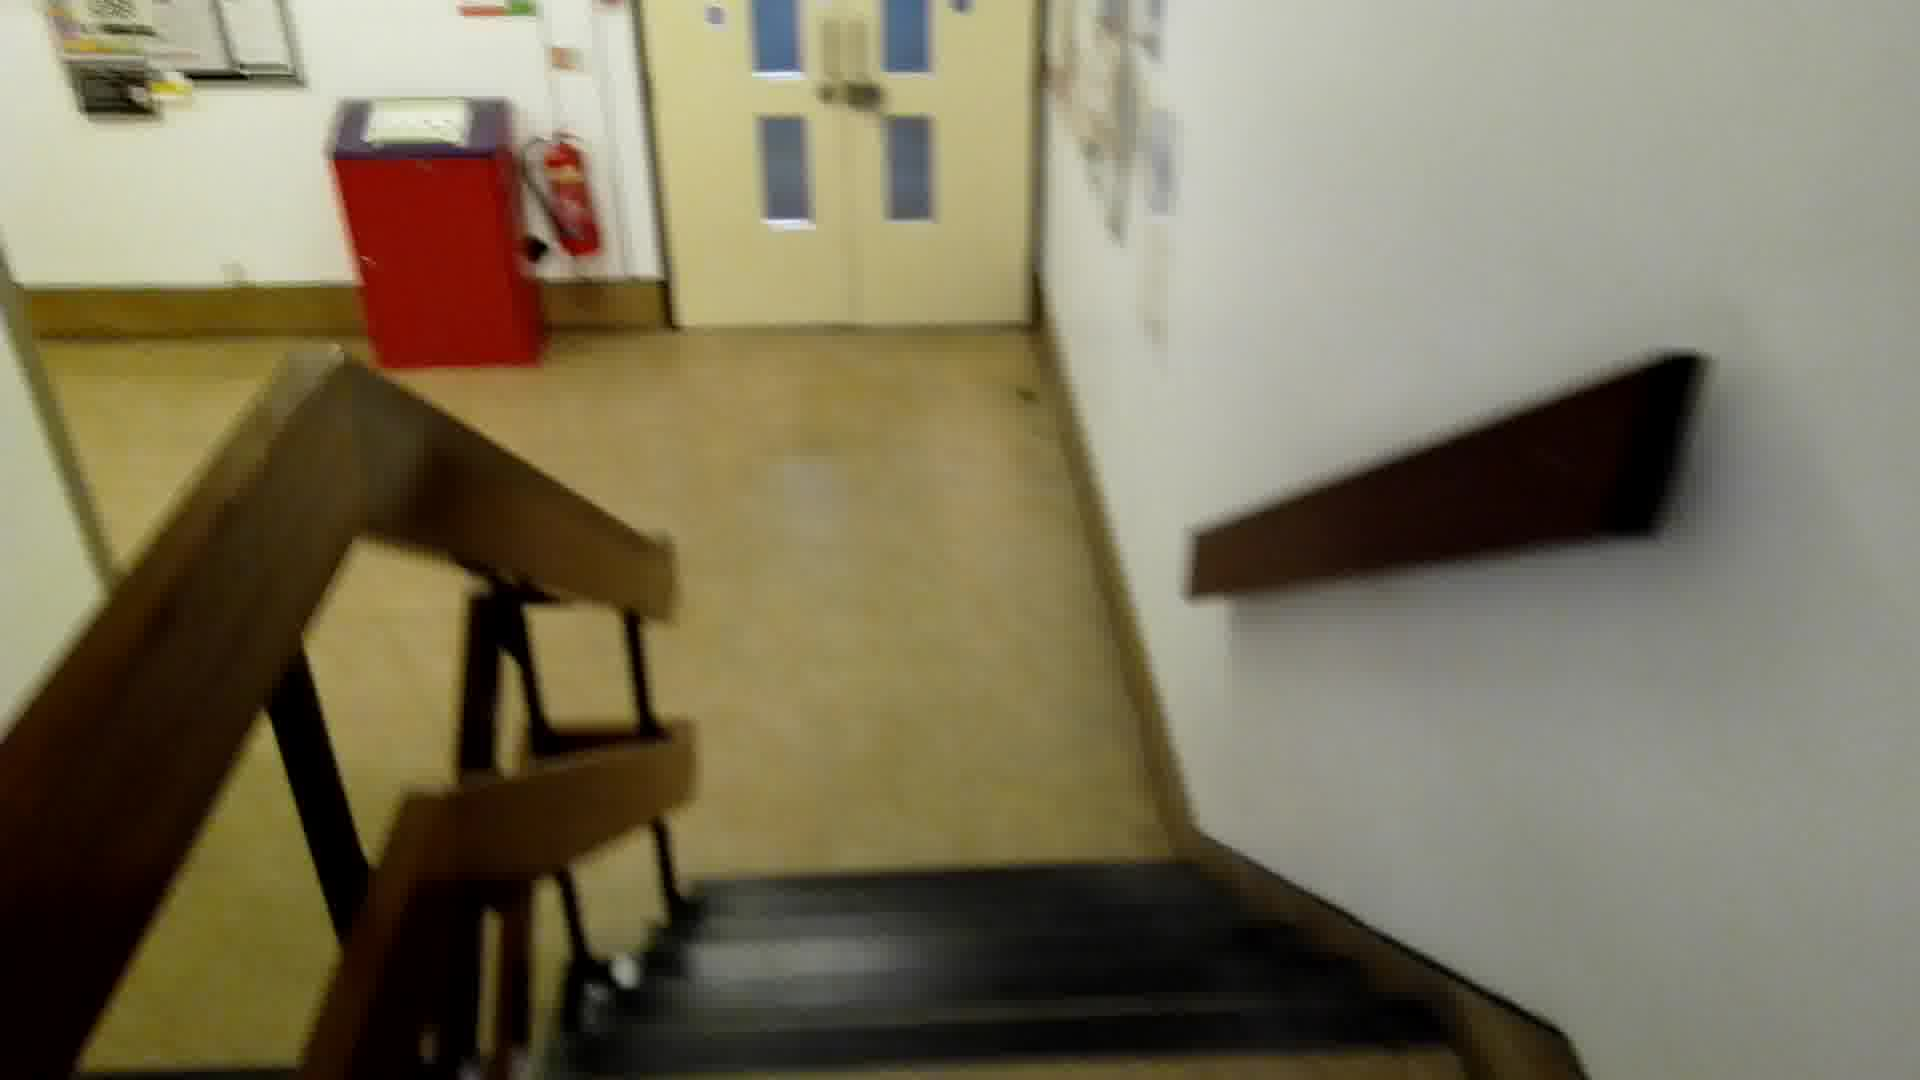Bin: (320, 92, 539, 386)
Stairs: (261, 349, 1756, 1073)
